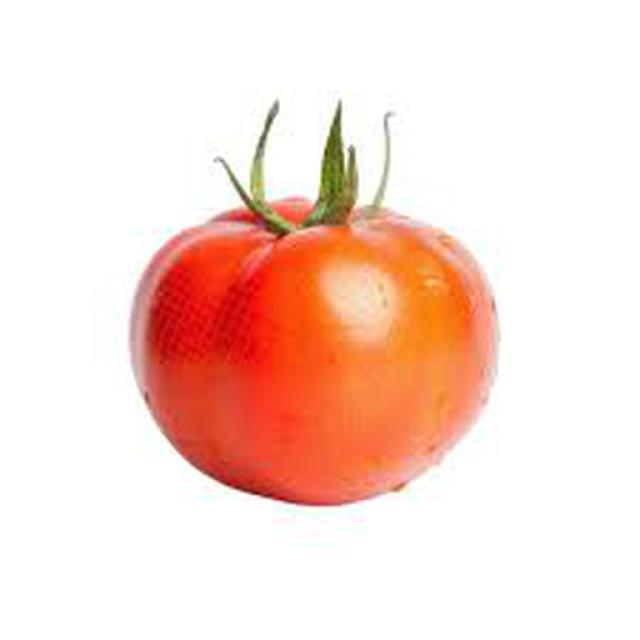tomato: (129, 131, 493, 507)
